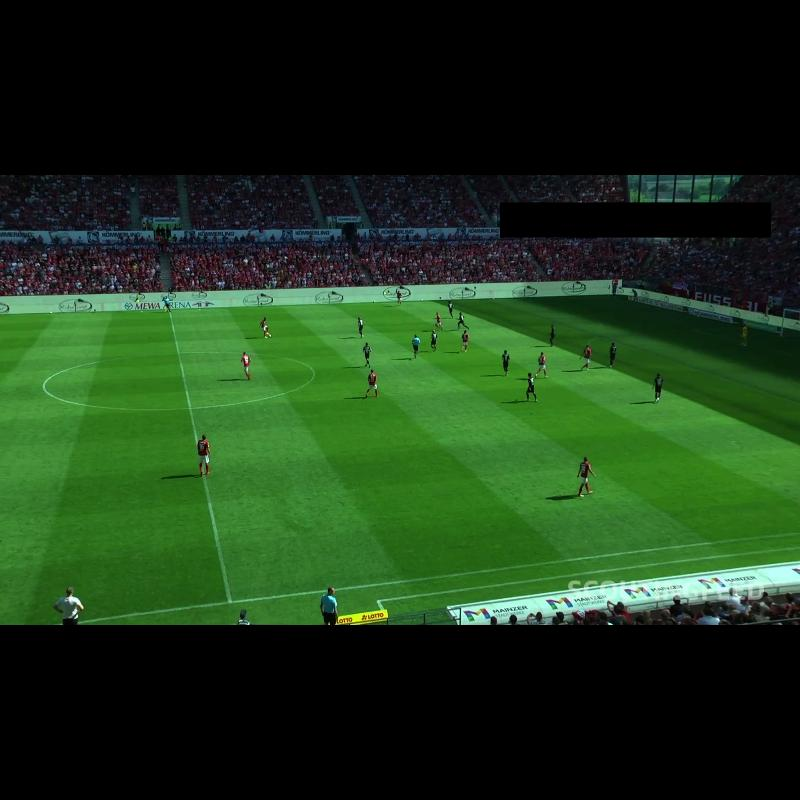cross_recipient_zone: (538, 312, 800, 406)
crossing_player_zone: (417, 296, 673, 320), (699, 412, 800, 470)
pitch: (0, 296, 800, 625)
